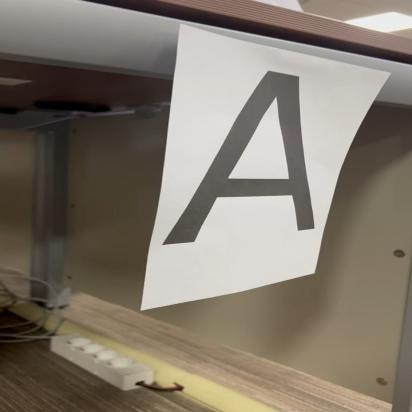seat: (170, 63, 313, 257)
